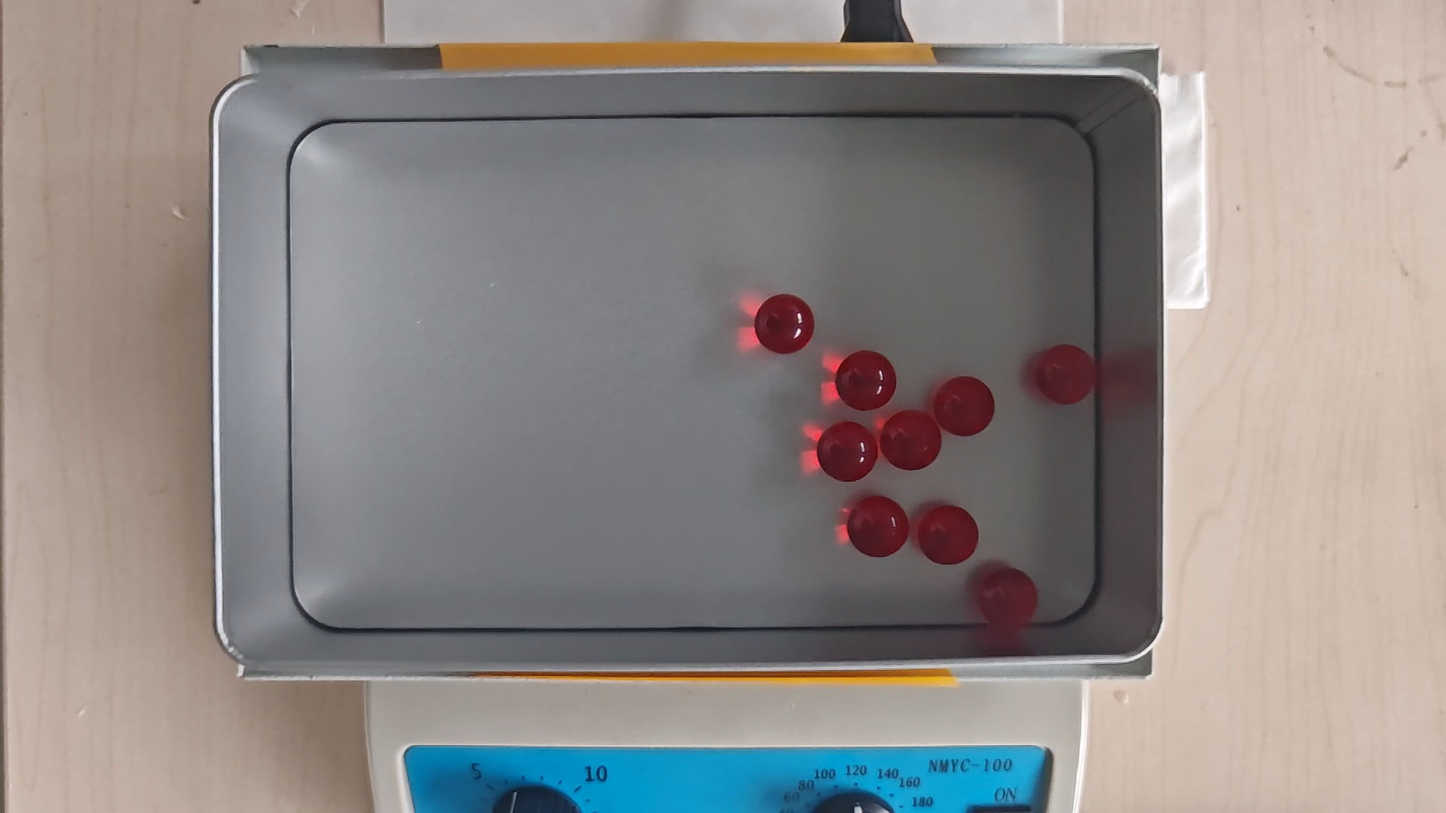ball: (847, 495, 910, 559), (1035, 343, 1097, 407), (917, 504, 979, 566), (978, 567, 1040, 629), (934, 376, 996, 437), (836, 350, 897, 412), (755, 294, 815, 356), (818, 422, 879, 482), (881, 410, 940, 471)
container: (286, 117, 1100, 627)
